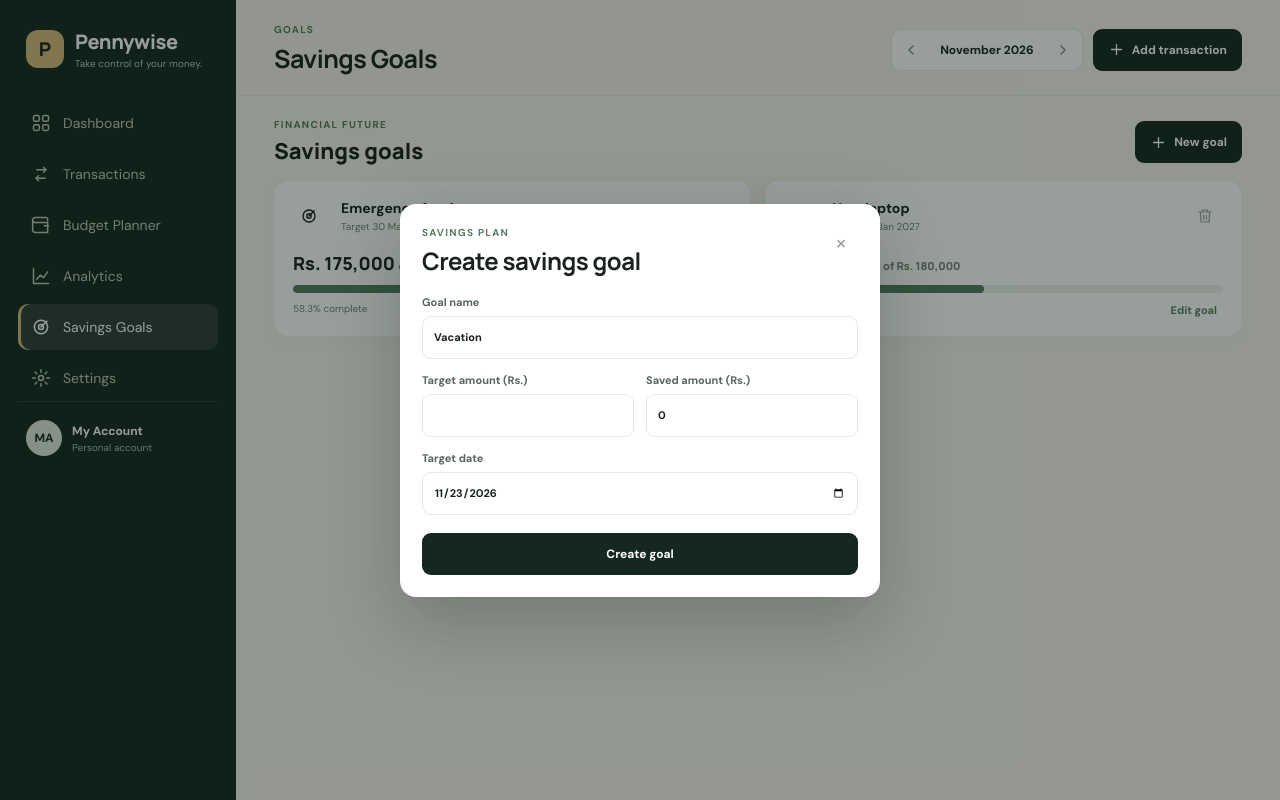
Scenario: creates, edits and deletes savings goals
This screenshot has width=1280, height=800.
Earlier steps of the test are not shown.
In the number field labelled "Target amount (Rs.)": {"x": 528, "y": 415} [422,394,634,436], type "100000"
Replace the text in the number field labelled "Saved amount (Rs.)" with "25000": {"x": 752, "y": 415} [646,394,858,436]
In the date field labelled "Target date": {"x": 640, "y": 493} [422,472,858,514], type "2027-12-31"
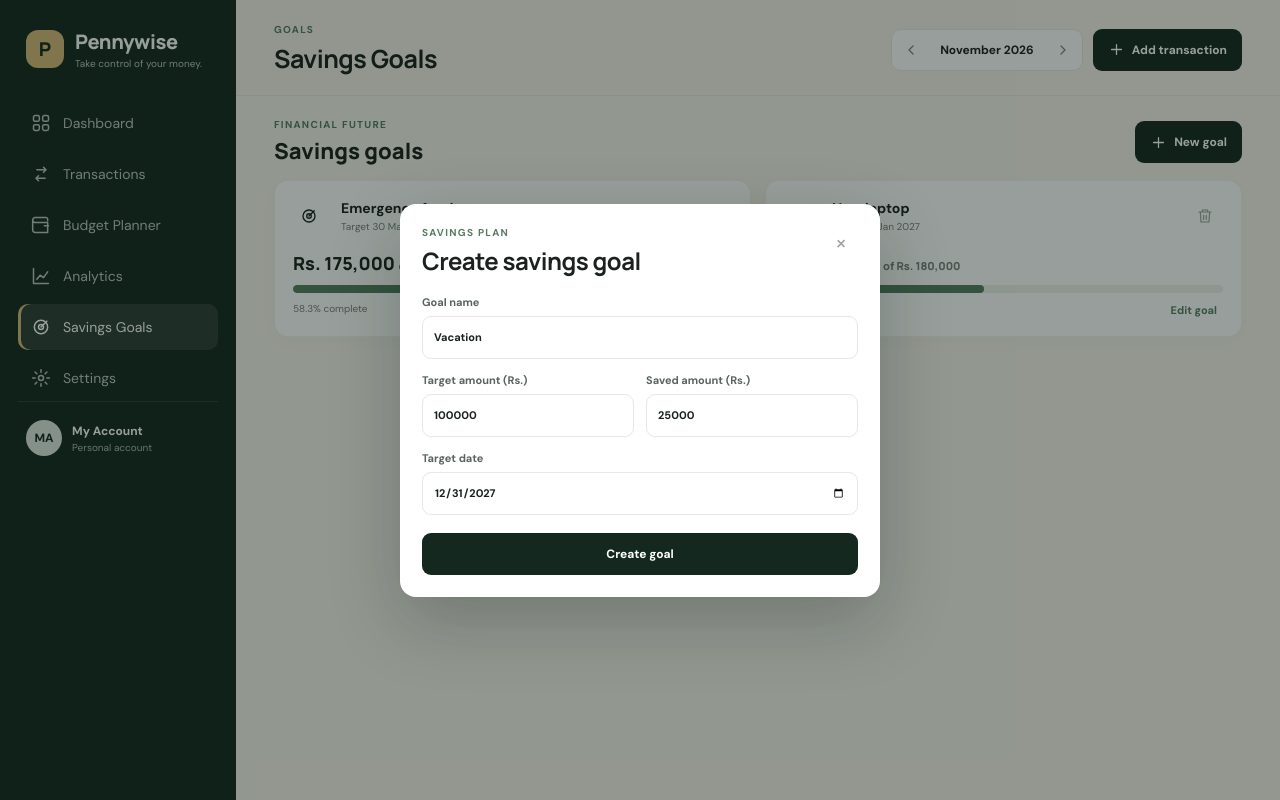
Click the button "Create goal": {"x": 640, "y": 554} [422,532,858,574]
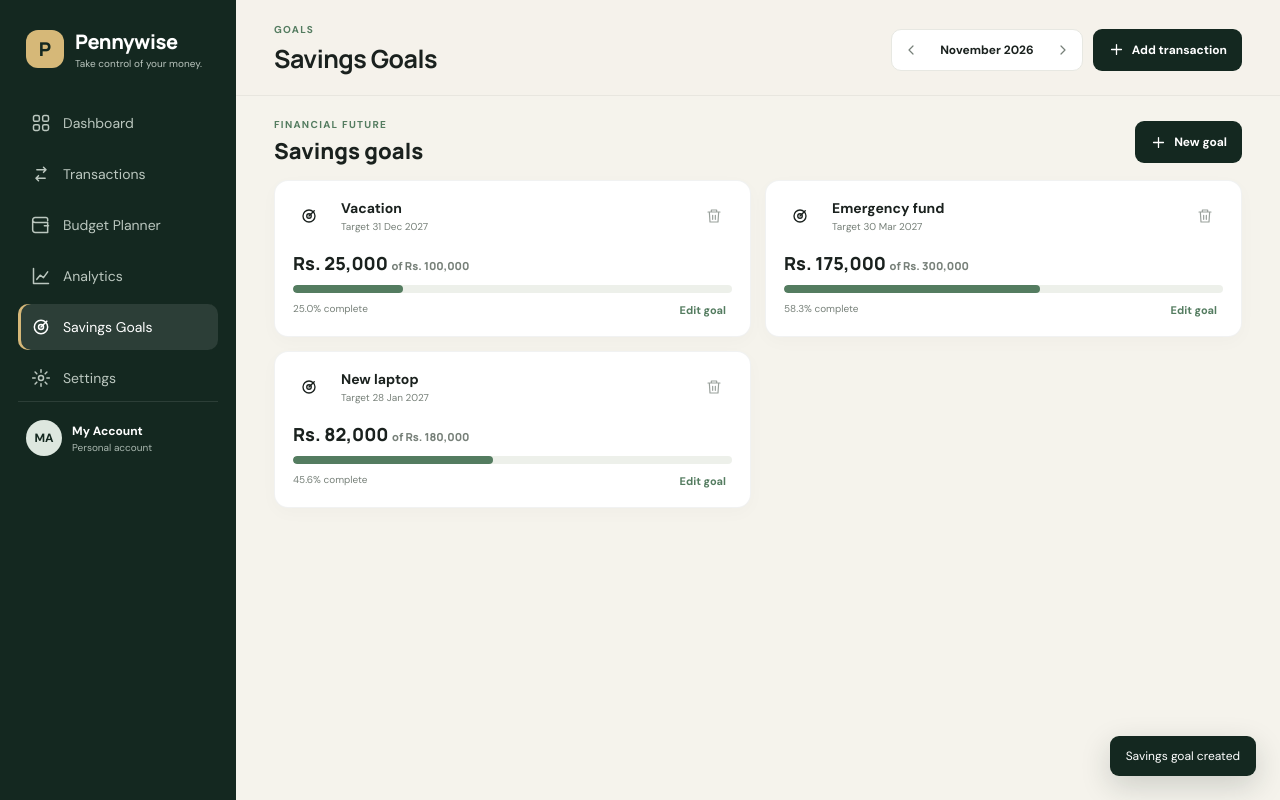
Now the heading "Vacation" is shown, box [341,199,402,217]
Click the button "Edit goal" in the row of "25.0": {"x": 703, "y": 310} [674,302,732,318]
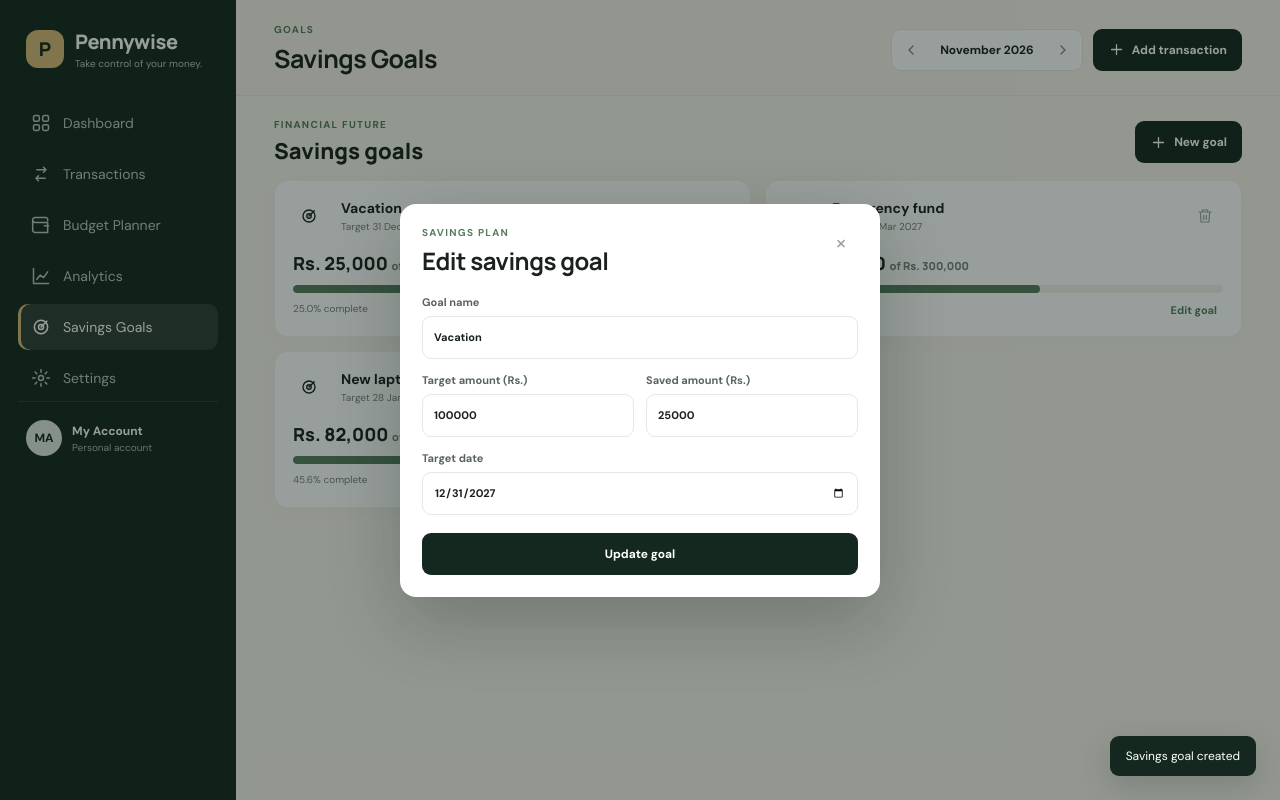
Replace the text in the number field labelled "Saved amount (Rs.)" with "40000": {"x": 752, "y": 415} [646,394,858,436]
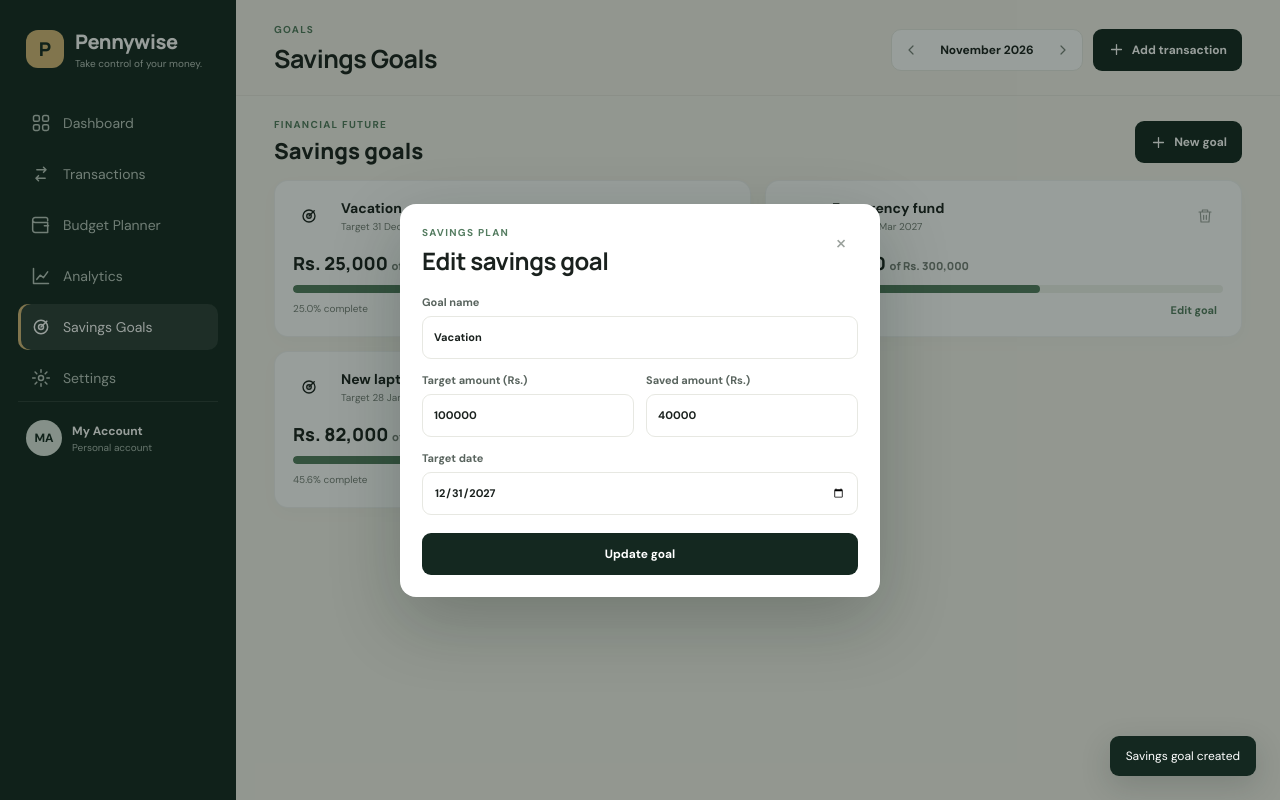
Click the button "Update goal": {"x": 640, "y": 554} [422,532,858,574]
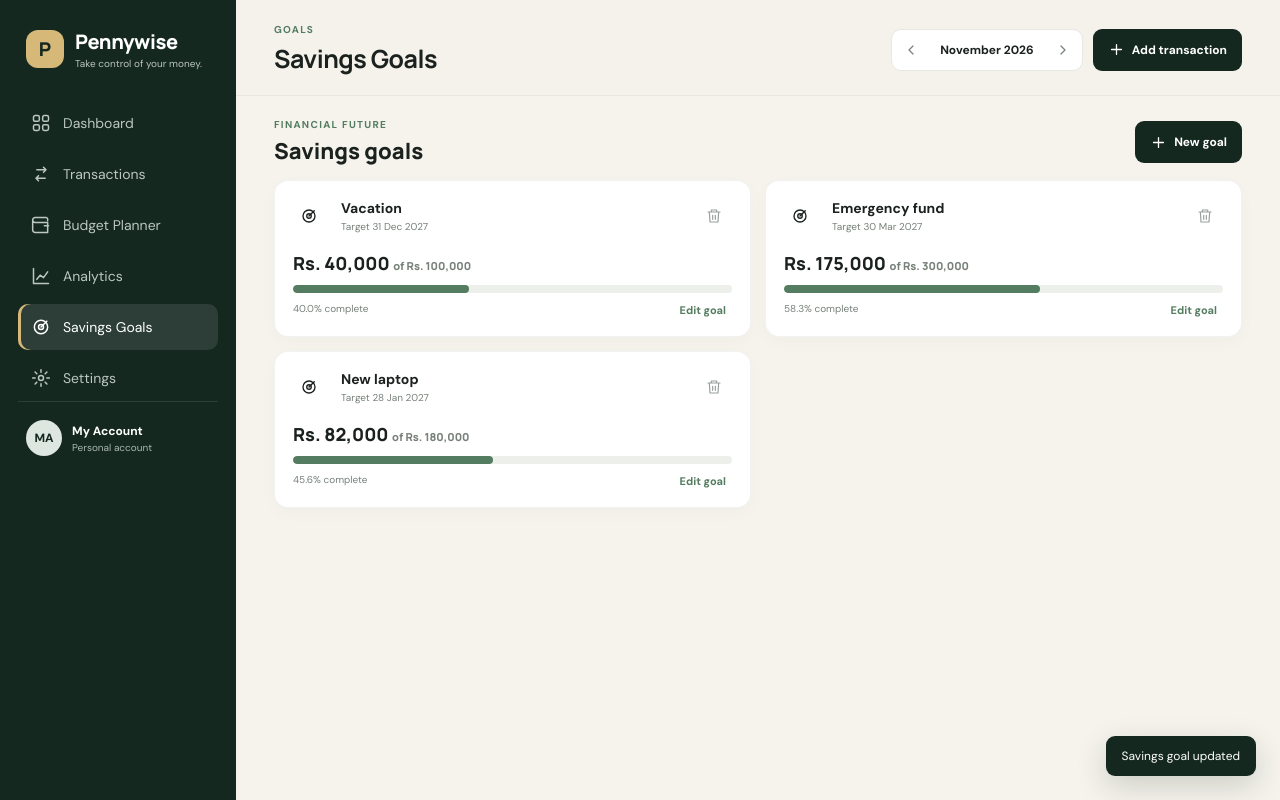
Click the button named "Delete Vacation": {"x": 714, "y": 216} [698,200,730,232]
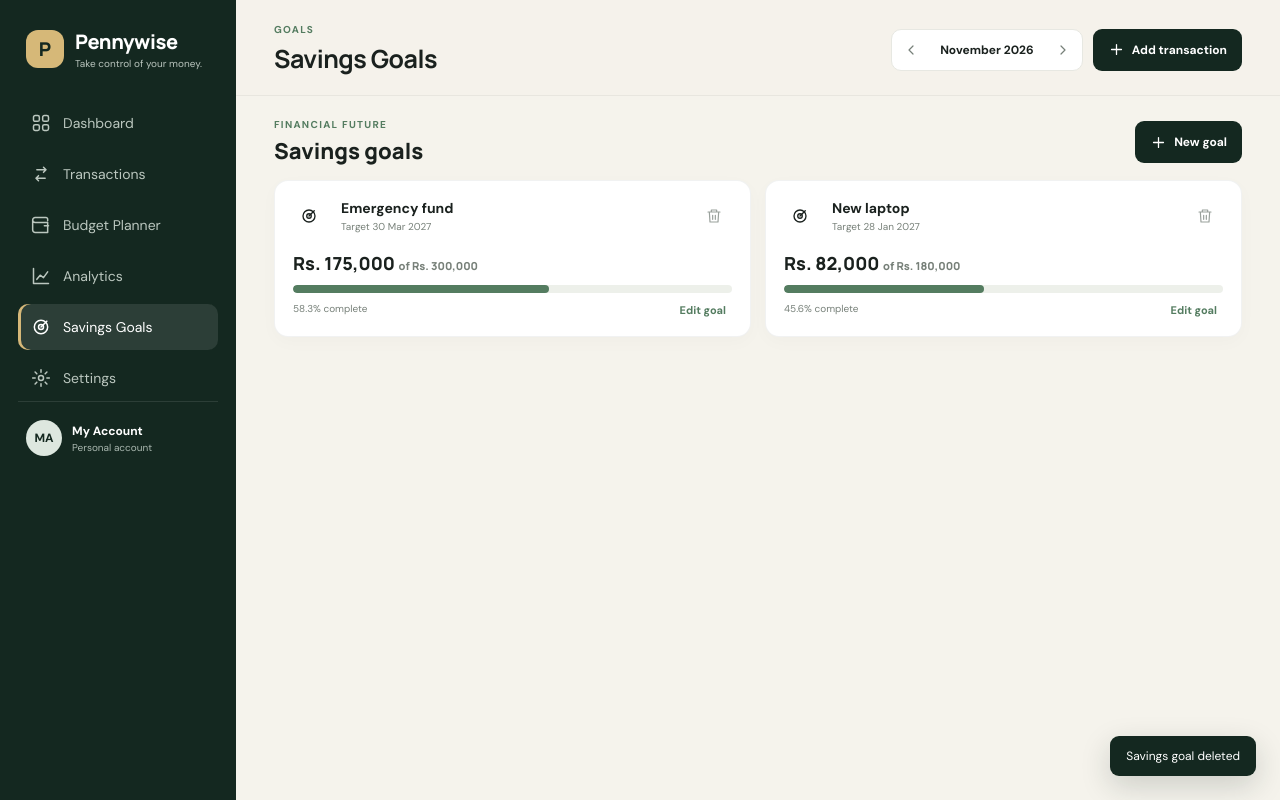
Now the heading "Vacation" is gone
